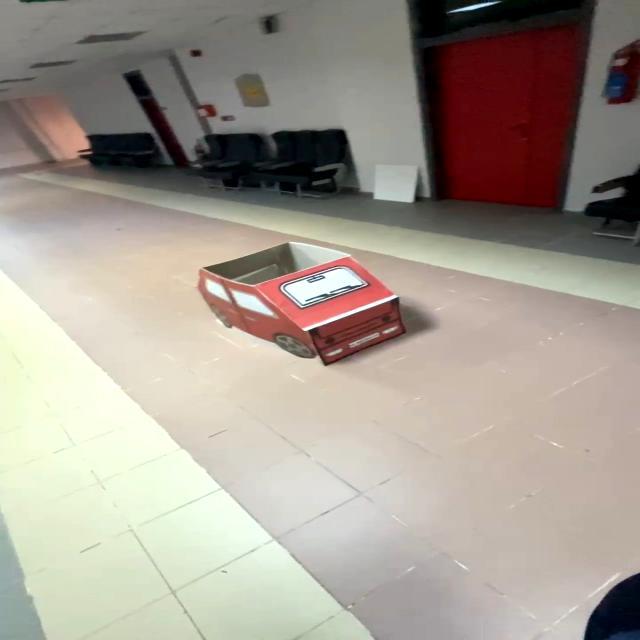red_car: (176, 235, 426, 386)
